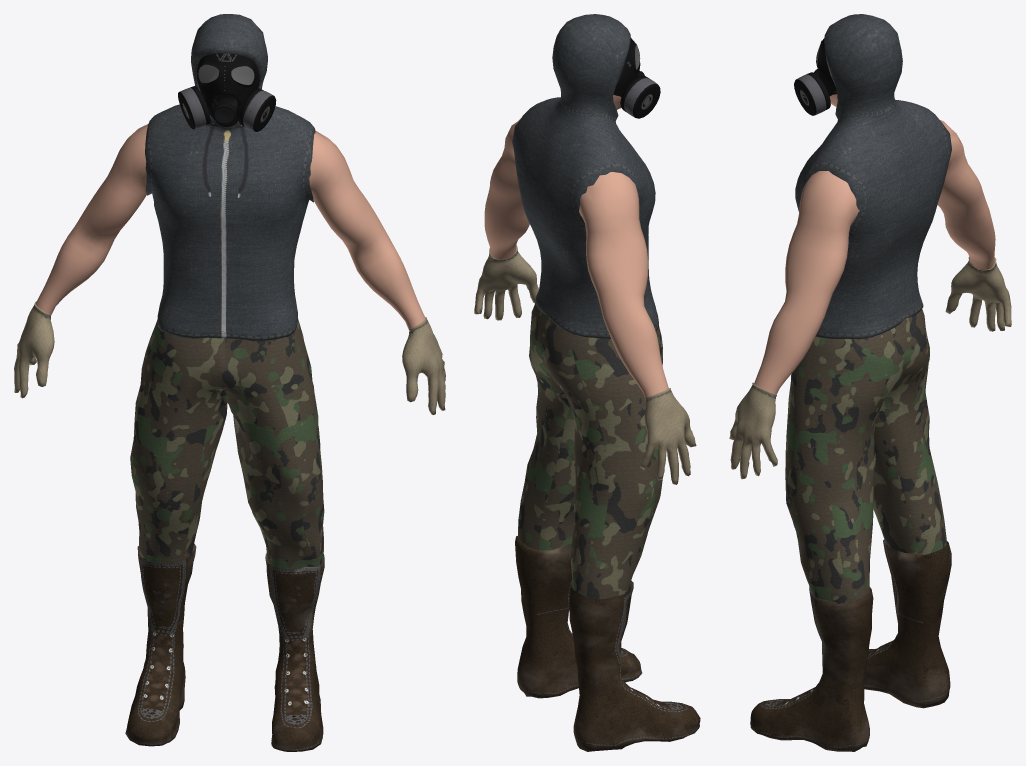
File: sodlier.glb
3 renders of one model, left to right at view 1: azimuth 30°, elevation 25°; view 2: azimuth 150°, elevation 25°; view 3: azimuth 270°, elevation 25°, orthographic.
Parts seen in each view (by area): view 1: human5-5.002, human5-5.001; view 2: human5-5.002, human5-5.001; view 3: human5-5.002, human5-5.001.
Part boxes in pixels (x1=…): human5-5.002: x1=14, y1=14, x2=445, y2=751; human5-5.001: x1=178, y1=53, x2=276, y2=131; human5-5.002: x1=474, y1=14, x2=700, y2=751; human5-5.001: x1=613, y1=37, x2=660, y2=118; human5-5.002: x1=729, y1=14, x2=1011, y2=751; human5-5.001: x1=794, y1=38, x2=836, y2=115.
Size of the model in its own units: 0.578 by 1.21 by 0.4446.
Materials: 10 (10 with a texture image).
